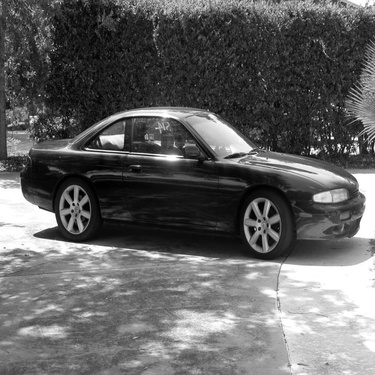car: (15, 97, 371, 266)
